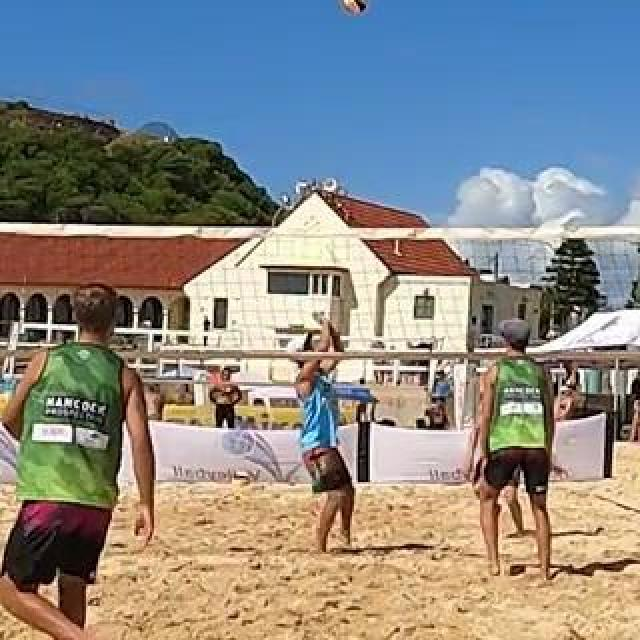volleyball: (339, 0, 369, 14), (232, 471, 250, 487)
